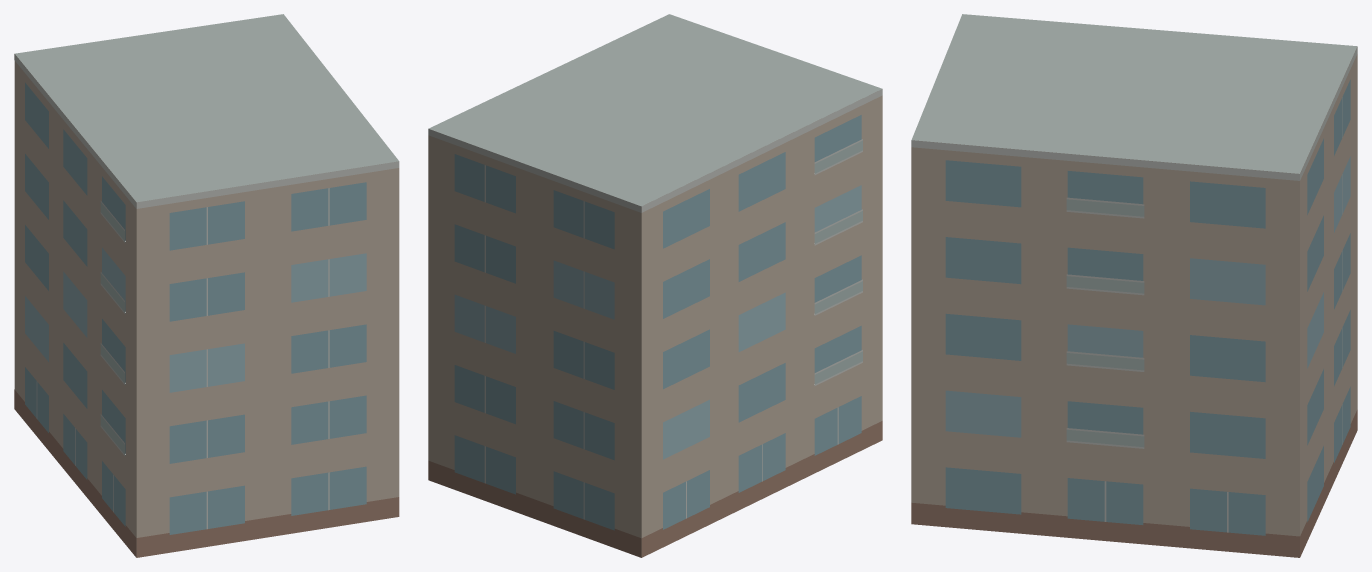
Rendered from survey-upis-32930323.glb.
The picture shows the model from 3 angles, left to right: view 1: azimuth 30°, elevation 25°; view 2: azimuth 150°, elevation 25°; view 3: azimuth 270°, elevation 25°; orthographic projection. The views are drawn at different scales.
Parts seen in each view (by area): view 1: survey-upis-32930323.tmp; view 2: survey-upis-32930323.tmp; view 3: survey-upis-32930323.tmp.
Boxes of the visible parts, <box> form: survey-upis-32930323.tmp: <box>14,14,399,557</box>; survey-upis-32930323.tmp: <box>428,14,882,557</box>; survey-upis-32930323.tmp: <box>911,14,1357,557</box>.
Bounding box in the file's own units: 11.75 × 13.15 × 13.86.
